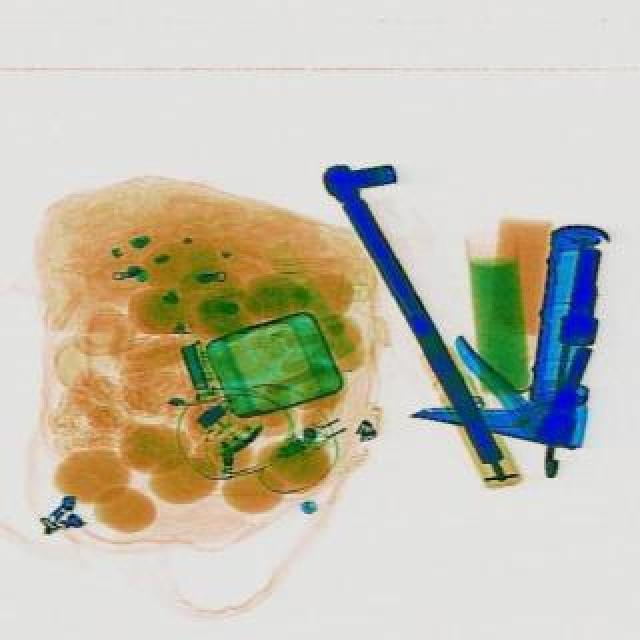knife: (406, 210, 606, 450)
